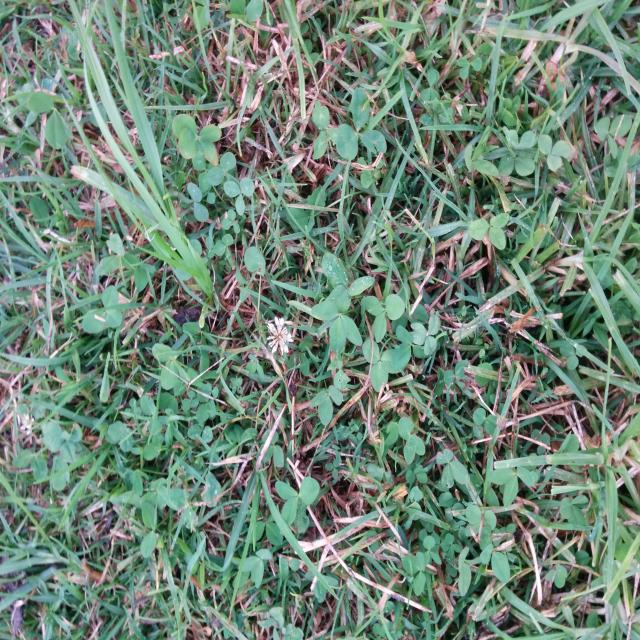Four Leaf Clover: (172, 114, 222, 166)
